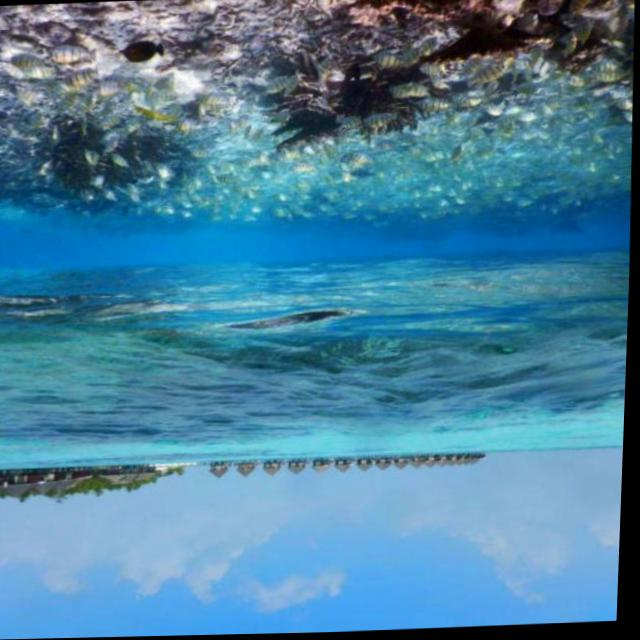Dead Coral: (158, 0, 374, 97)
